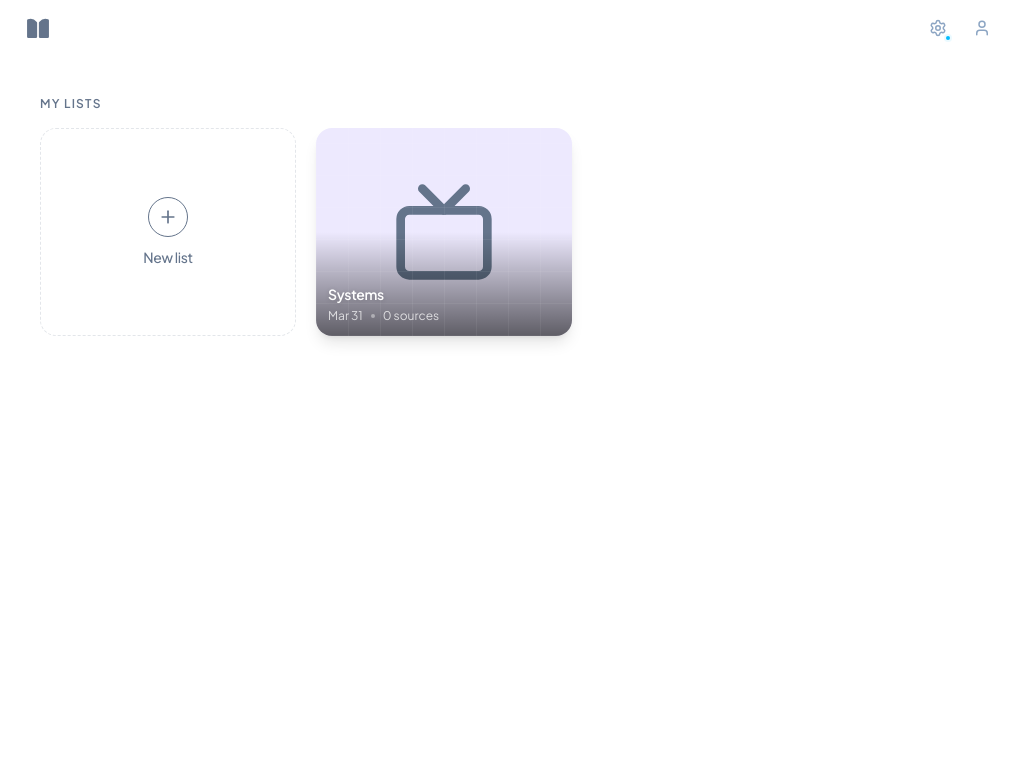
Test: home page › supports navigation across home, list workspace, and settings routes
The width and height of the screenshot is (1024, 768).
Expected: the heading "Systems" is shown, [328, 285, 384, 303]
Click the button with aria-label "open systems". click: {"x": 444, "y": 232}
box: [316, 128, 572, 336]
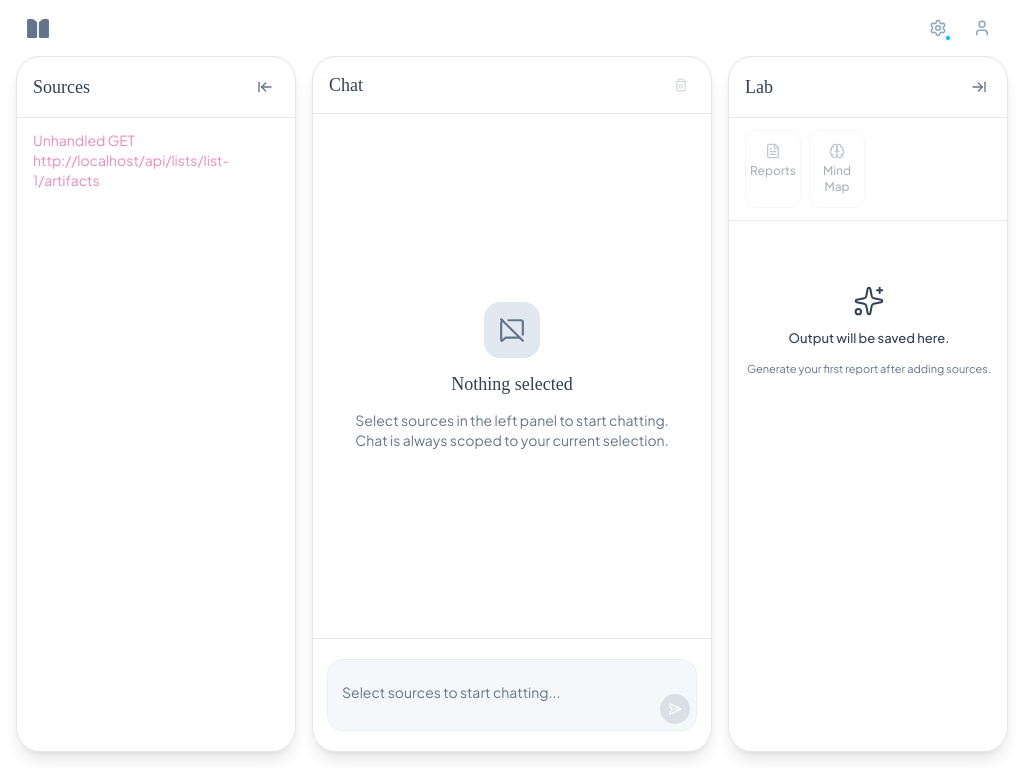
Now the heading "Sources" is shown, box [33, 77, 90, 97]
Click the link named "settings". click: {"x": 940, "y": 30}
box: [929, 19, 952, 42]
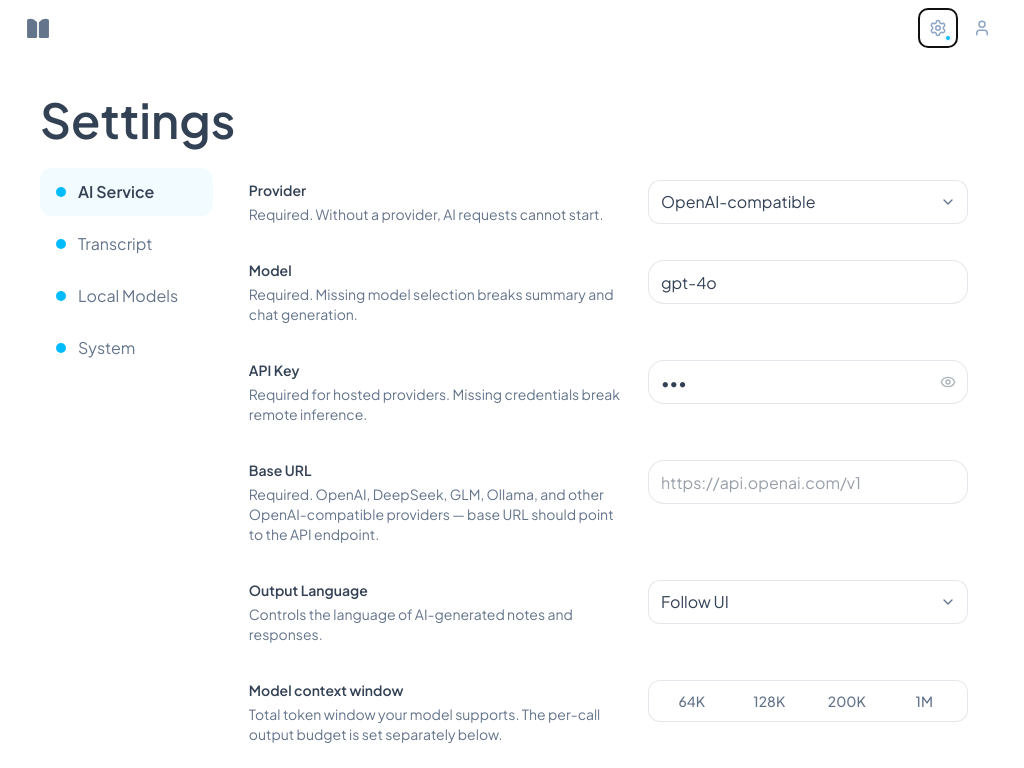
Now the heading "Settings" is shown, box [40, 89, 235, 150]
